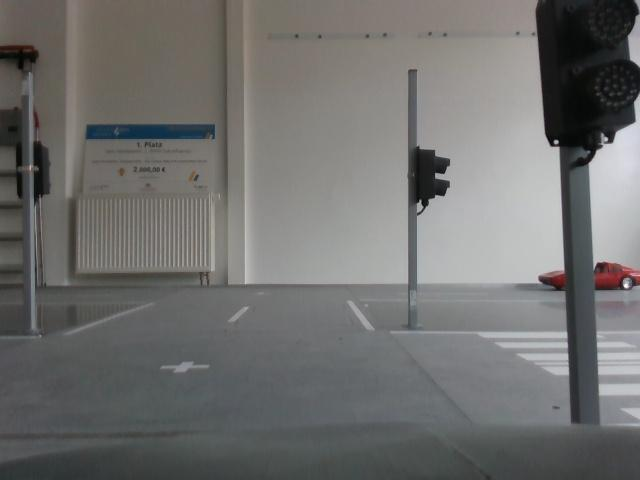car: (541, 254, 640, 299)
traffic light: (539, 10, 640, 148), (408, 146, 456, 208)
